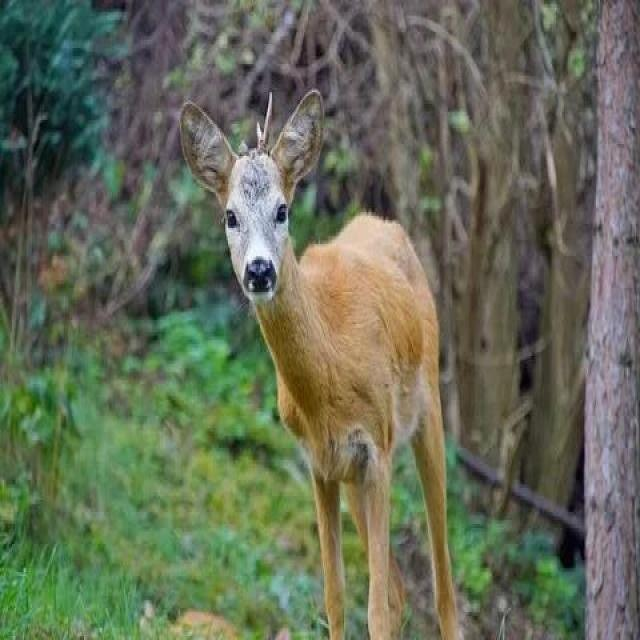deer: (228, 160, 461, 549)
